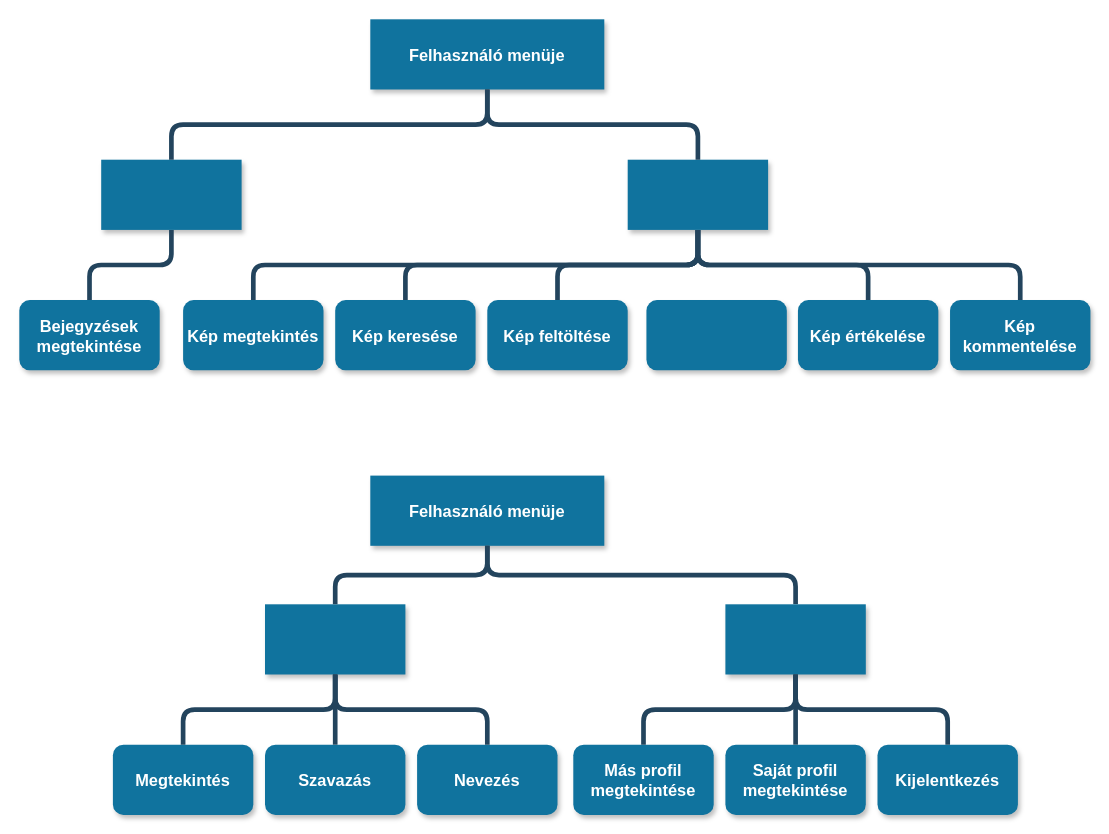
Some shapes in this 1109 by 834 pixel diagram are drawn without their labels. Each missing label, with the centre of its shape:
Főoldal: the point at 172,196
Képek: the point at 698,196
Profil: the point at 796,640
Saját kép törlése: the point at 717,336
Versenyek: the point at 336,640
